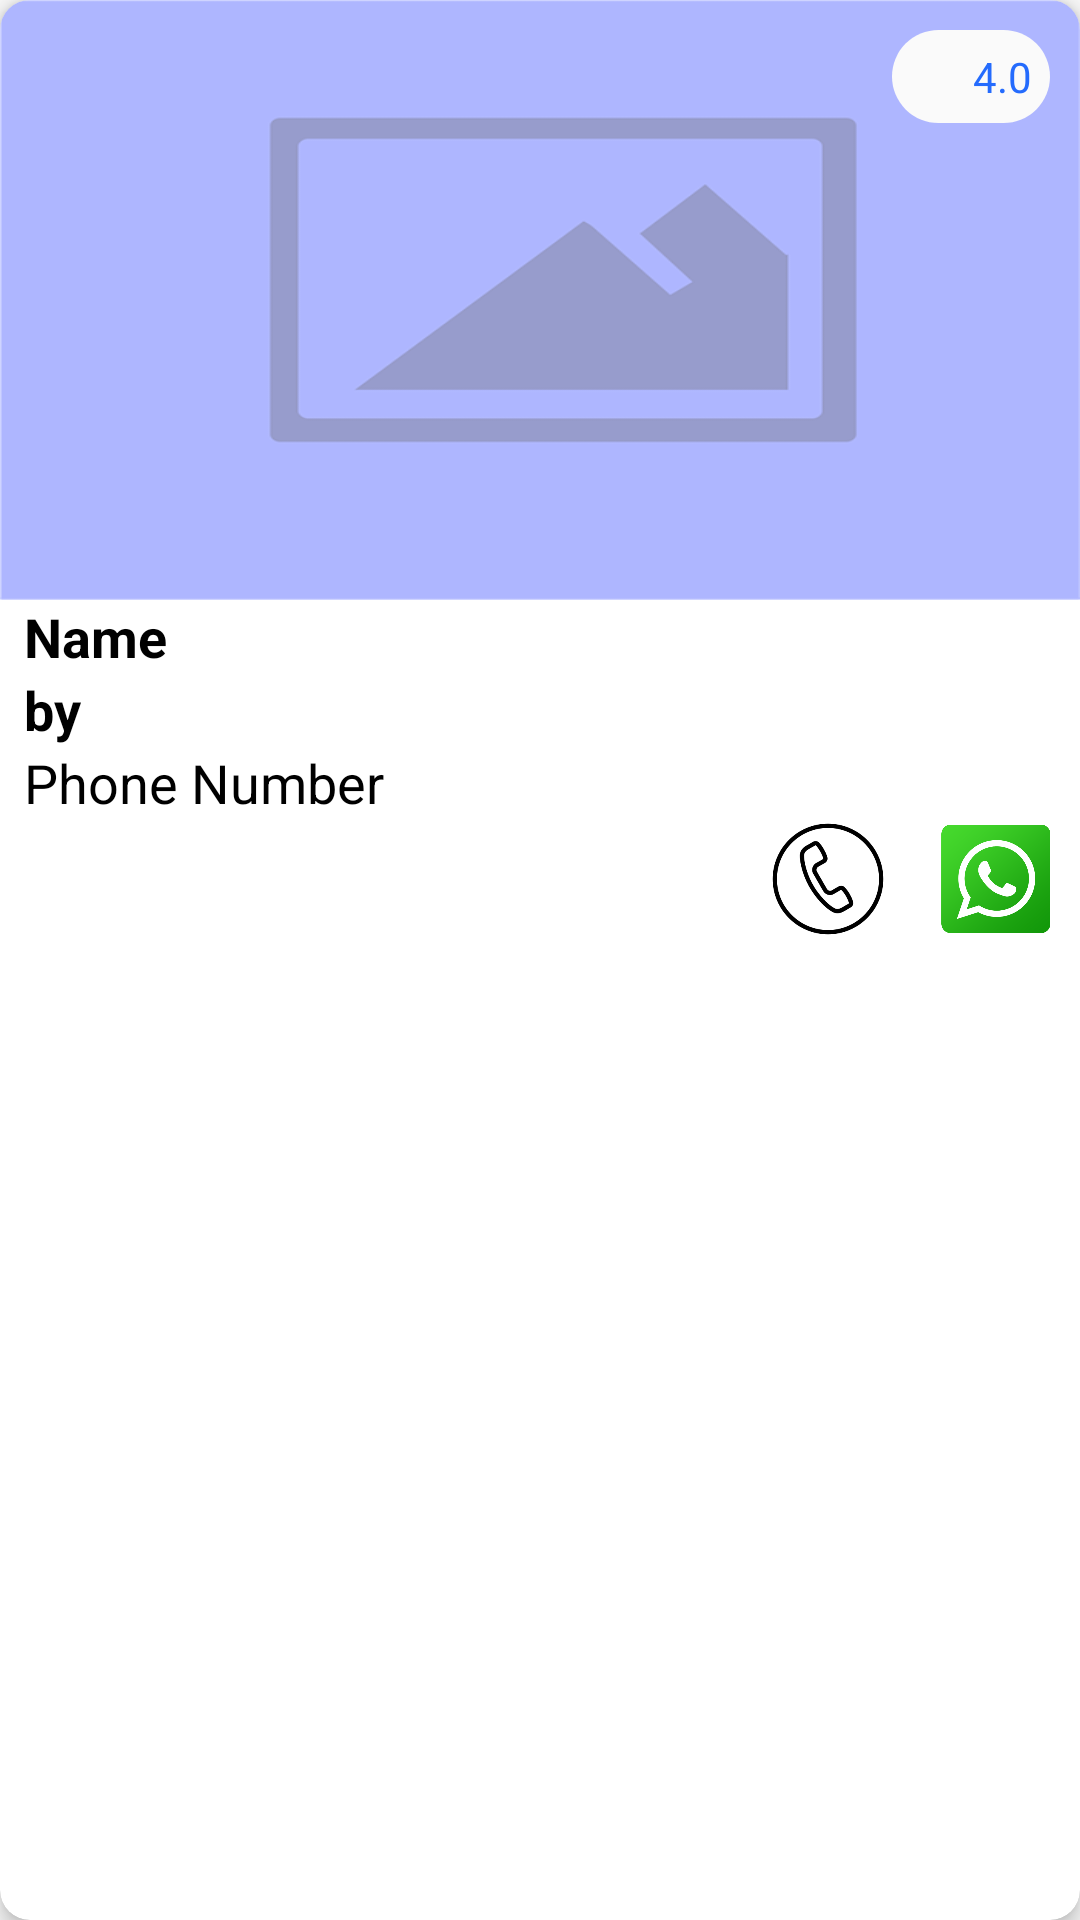

Screen size 1080×1920. Icon name, then its box in pixels as (x1, y1, x2, y2):
call: (772, 823, 884, 935)
